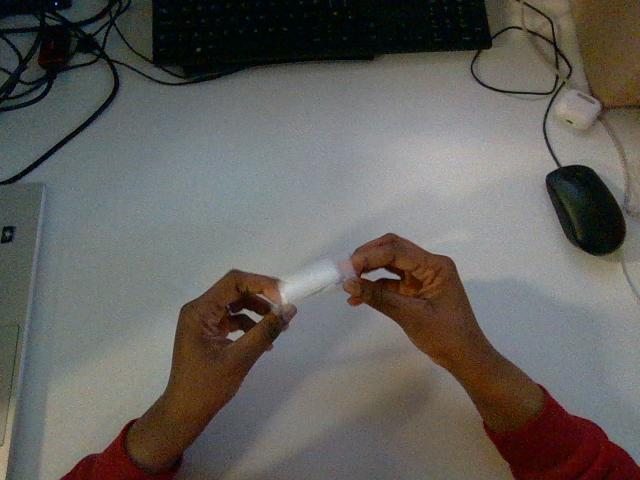gauze: (279, 260, 354, 304)
